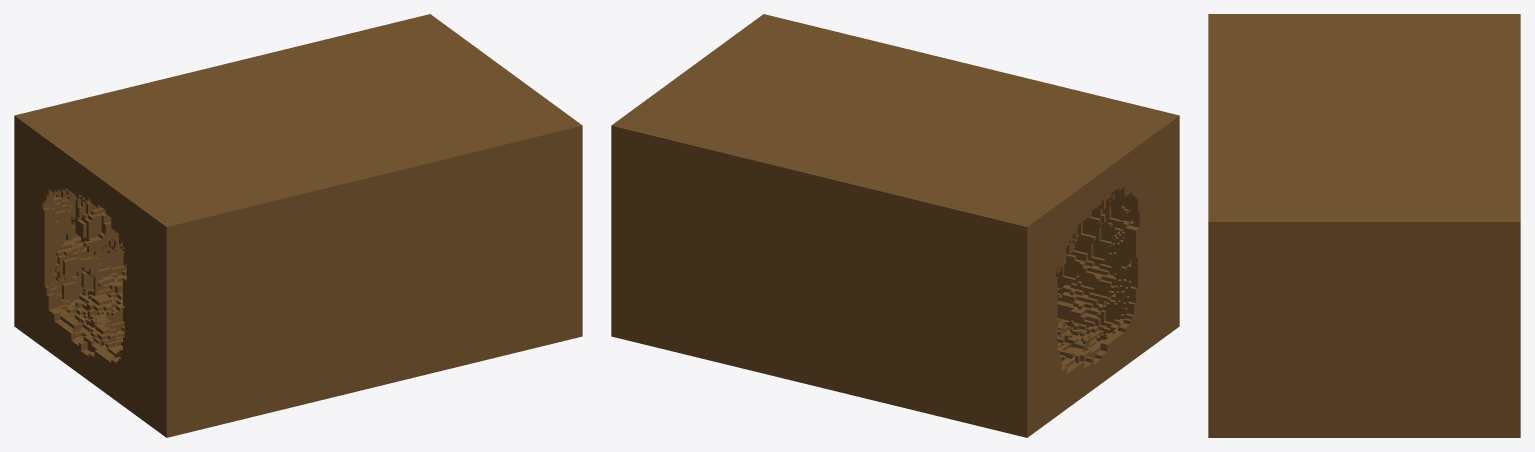
File: Level 1 Final Tunnel.obj
3 views of the same model, side by side, from view 1: azimuth 30°, elevation 25°; view 2: azimuth 150°, elevation 25°; view 3: azimuth 270°, elevation 25° (orthographic). The views are drawn at different scales.
Size of the model in its own units: 126 by 61 by 80.
1 material, 1 textured.
